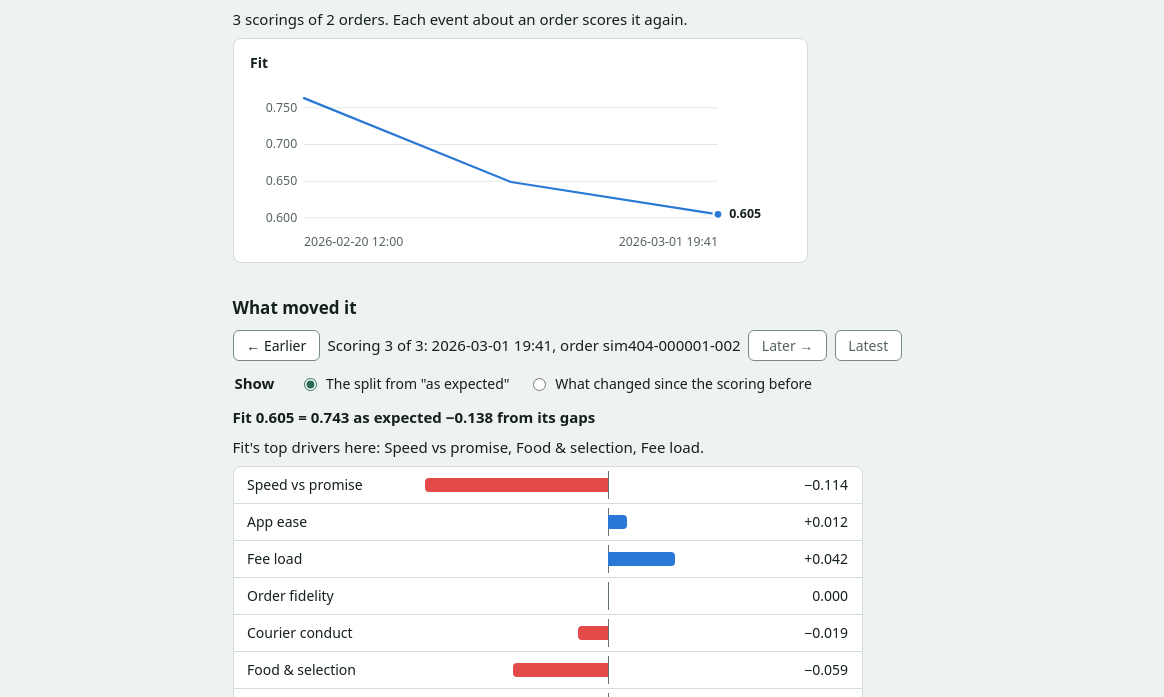
Test: stepping back through the history; a scoring from before T316 has no split
(page scrolled)
Click the button "← Earlier" at [276, 345], box [232, 330, 320, 361]
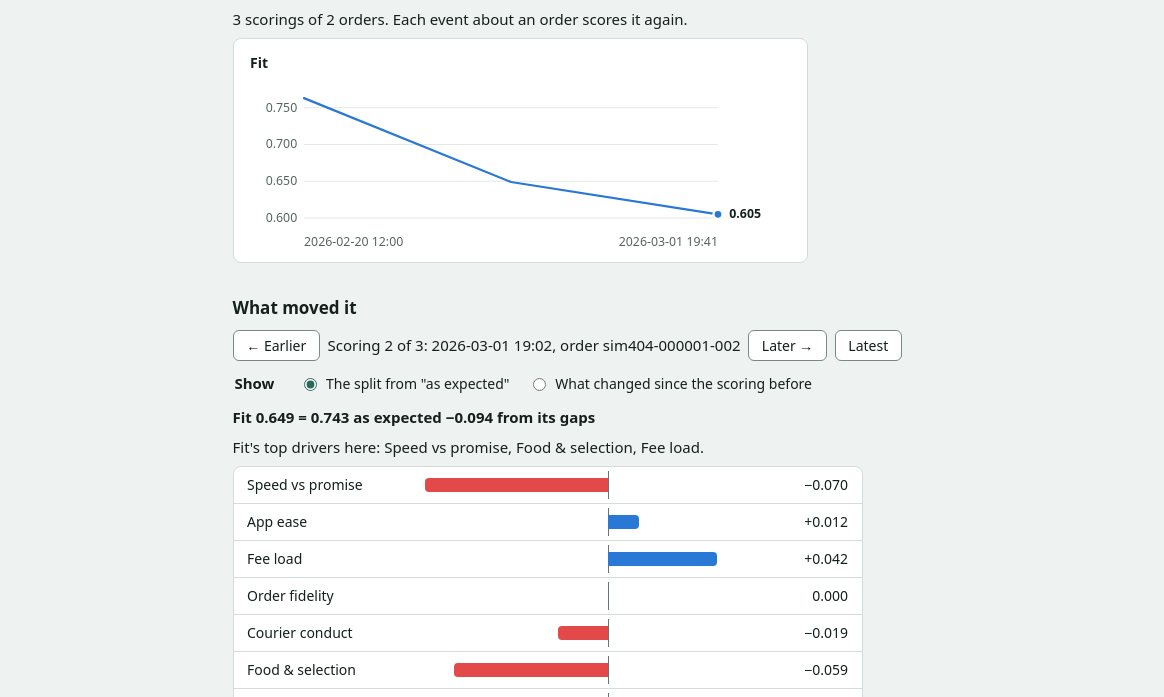
Check: the text "Scoring 2 of 3: 2026-03-01 19:02, order sim404-000001-002" is shown, box [328, 334, 741, 357]
Check: the text with class "sum" reads "Fit 0.649 = 0.743 as expected −0.094 from its gaps", box [232, 407, 595, 427]
Click the button "← Earlier" at [276, 345], box [232, 330, 320, 361]
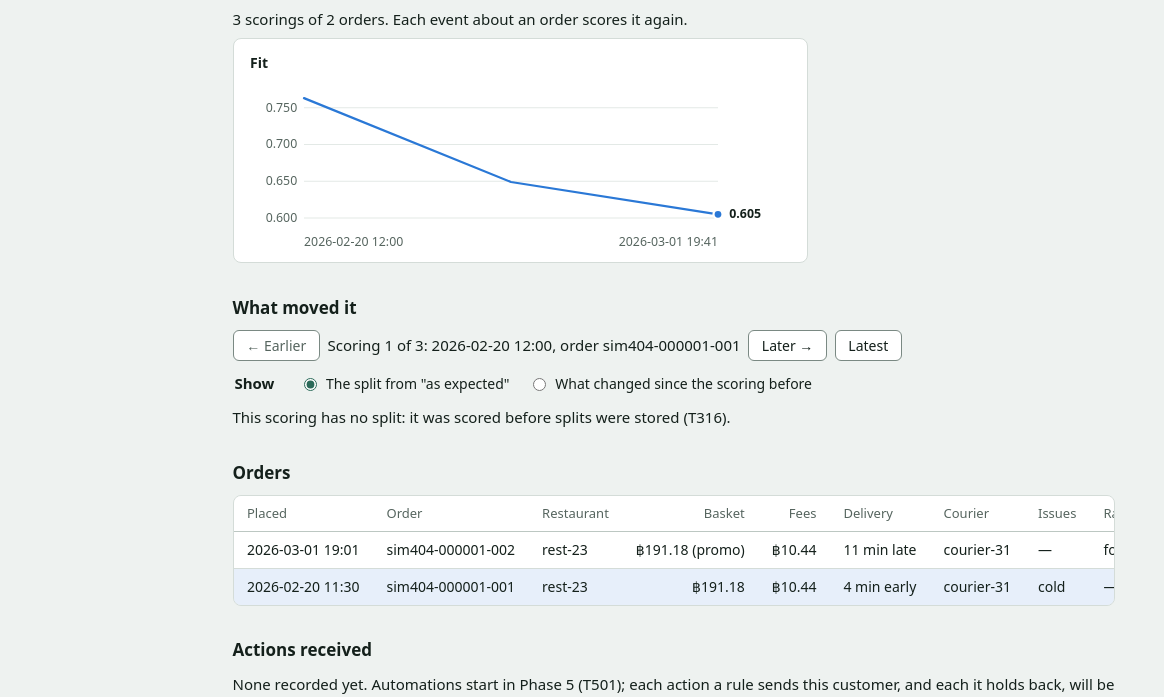
Check: the text "Scoring 1 of 3: 2026-02-20 12:00, order sim404-000001-001" is shown, box [328, 334, 741, 357]
Check: the text "This scoring has no split: it was scored before splits were stored (T316)." is shown, box [232, 407, 730, 427]
Check: the button "← Earlier" is disabled, box [232, 330, 320, 361]
Click the button "Latest" at [868, 345], box [835, 330, 902, 361]
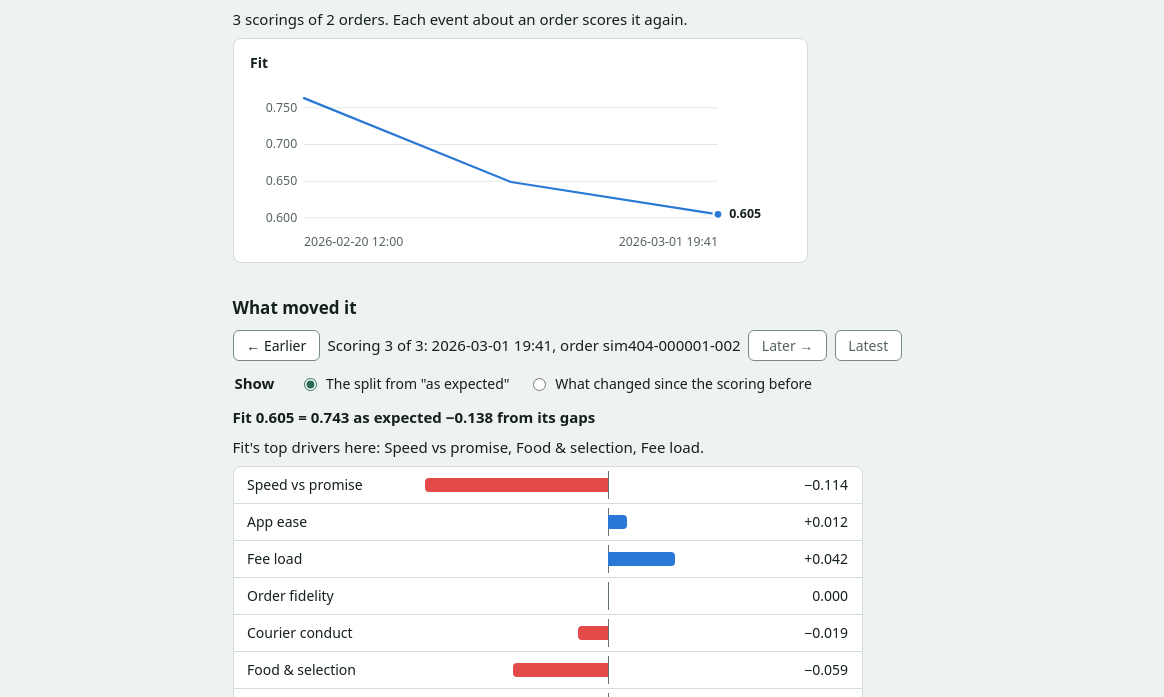
Check: the text "Scoring 3 of 3: 2026-03-01 19:41, order sim404-000001-002" is shown, box [328, 334, 741, 357]
